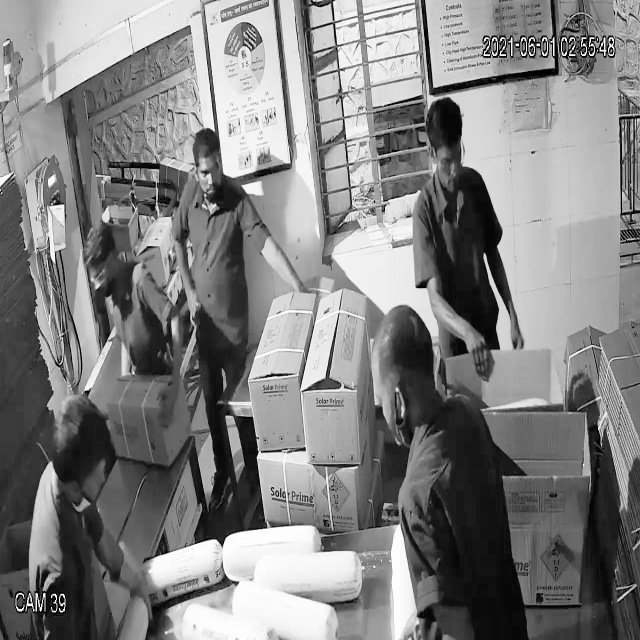Gafas: (426, 139, 469, 174)
